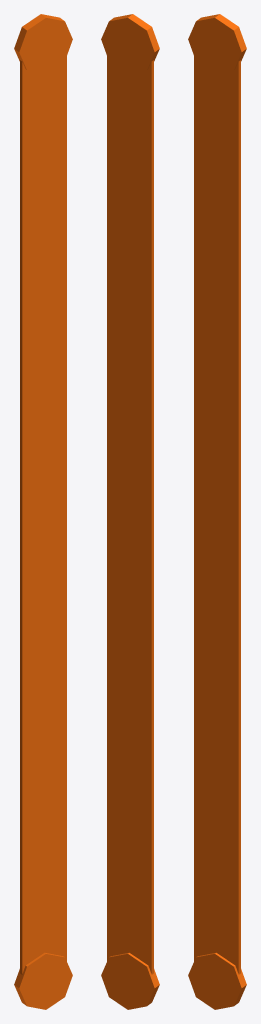
Rendered from ENV_Sling.fbx.
3 renders of one model, left to right at view 1: azimuth 30°, elevation 25°; view 2: azimuth 150°, elevation 25°; view 3: azimuth 330°, elevation 25°, orthographic.
Visible parts, largest first — view 1: ENV_Sling, Sling_EyeTop, Sling_EyeBottom; view 2: ENV_Sling, Sling_EyeTop, Sling_EyeBottom; view 3: ENV_Sling, Sling_EyeTop, Sling_EyeBottom.
Boxes of the visible parts, left/top/right/bottom form: ENV_Sling: left=20, top=56, right=66, bottom=974; Sling_EyeTop: left=14, top=14, right=72, bottom=73; Sling_EyeBottom: left=14, top=952, right=72, bottom=1009; ENV_Sling: left=107, top=56, right=153, bottom=974; Sling_EyeTop: left=101, top=14, right=159, bottom=73; Sling_EyeBottom: left=101, top=952, right=159, bottom=1009; ENV_Sling: left=194, top=56, right=240, bottom=974; Sling_EyeTop: left=188, top=14, right=246, bottom=73; Sling_EyeBottom: left=188, top=952, right=246, bottom=1009.
Bounding box in the file's own units: 0.06 × 1.06 × 0.01.
1 material, 1 textured.
